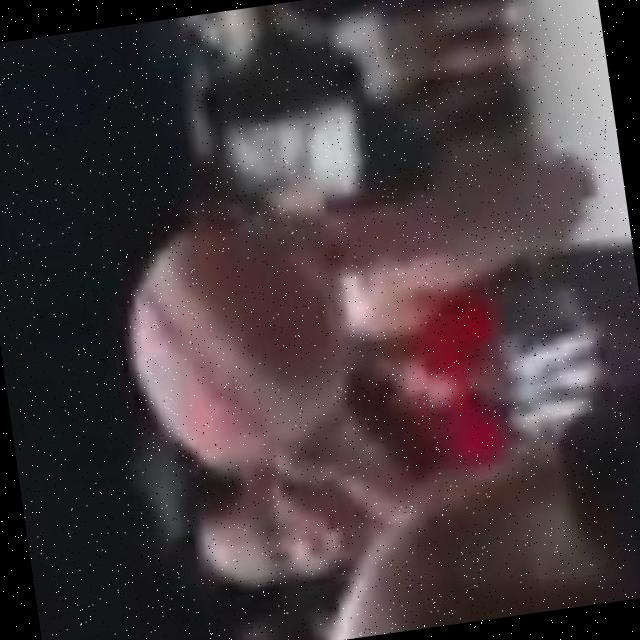ball: (94, 186, 394, 494)
